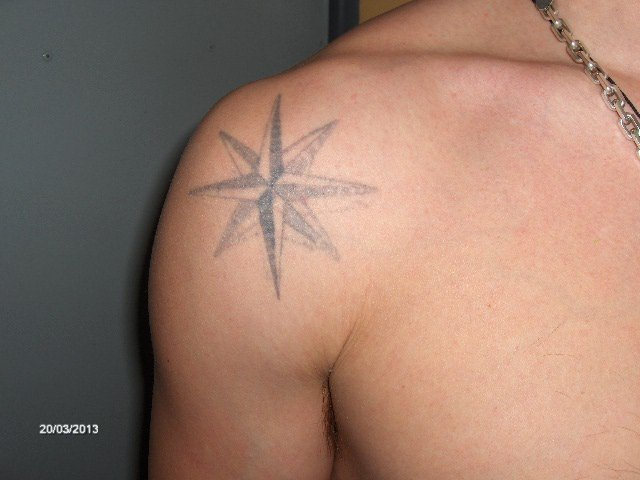tatu4_zvezda: (185, 92, 380, 301)
